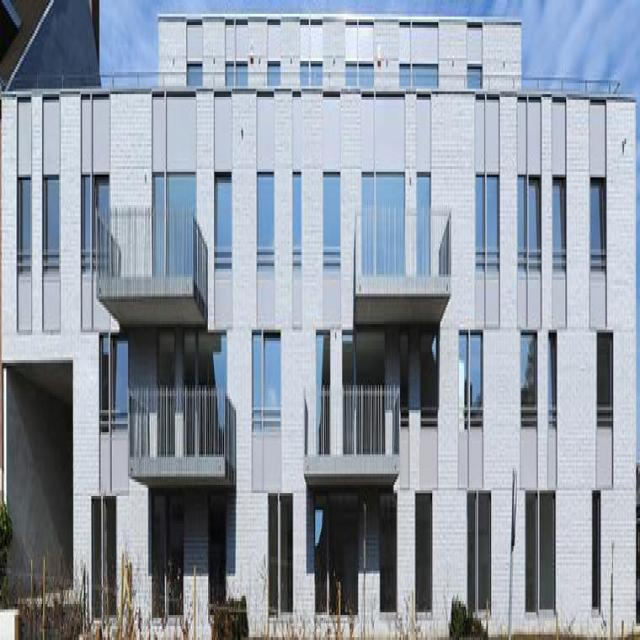door: (90, 501, 116, 622)
railing: (97, 200, 206, 299), (128, 387, 235, 466), (305, 391, 399, 458), (359, 202, 449, 270)
window: (313, 500, 358, 613), (340, 325, 382, 446), (360, 166, 402, 266), (155, 322, 224, 382), (152, 486, 180, 610), (525, 491, 553, 609), (465, 487, 490, 603), (250, 323, 279, 420), (267, 491, 291, 608), (98, 326, 127, 420), (458, 333, 483, 427), (473, 171, 497, 260), (414, 487, 431, 606), (378, 484, 395, 603), (517, 170, 539, 259), (256, 163, 276, 260), (320, 164, 339, 264), (207, 491, 224, 597), (595, 326, 613, 426), (420, 327, 438, 424), (313, 320, 327, 443), (213, 167, 231, 262), (151, 166, 194, 202), (519, 336, 537, 421), (80, 171, 96, 265), (42, 169, 58, 262), (415, 163, 429, 269), (588, 173, 604, 265), (17, 170, 29, 263), (552, 173, 564, 260), (291, 161, 300, 257), (592, 492, 599, 608), (400, 333, 408, 423), (547, 331, 555, 415), (399, 67, 436, 85), (346, 65, 373, 85), (301, 64, 323, 84), (226, 63, 246, 84), (188, 66, 202, 85), (467, 70, 481, 87), (268, 64, 280, 83)
